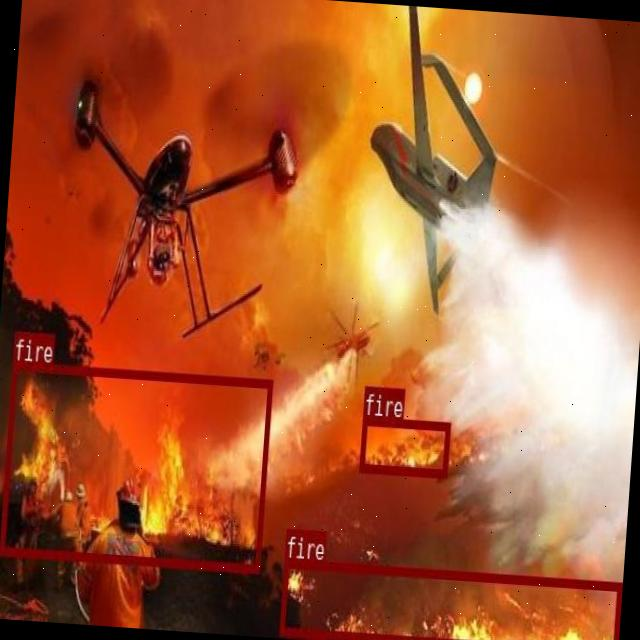fire: (0, 361, 272, 572), (279, 557, 621, 640), (358, 415, 449, 476)
